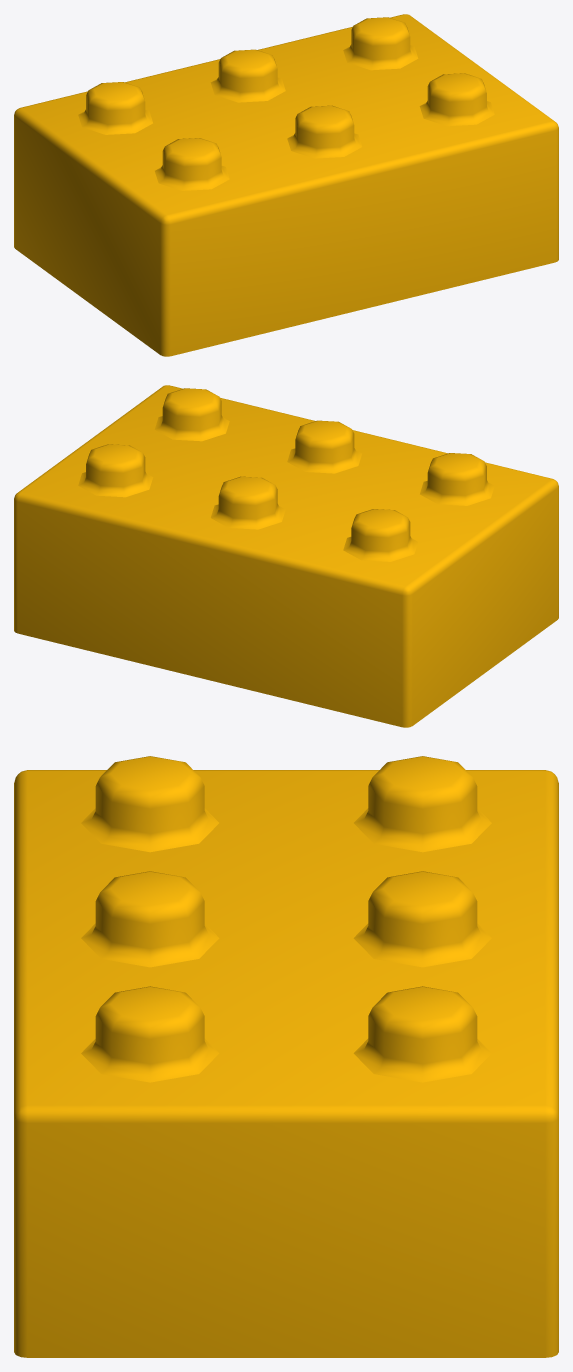
Rendered from Three_Piece_Half.fbx.
3 renders of one model, top to bottom at view 1: azimuth 30°, elevation 25°; view 2: azimuth 150°, elevation 25°; view 3: azimuth 270°, elevation 25°, orthographic. The views are drawn at different scales.
Visible parts, largest first — view 1: Three_Piece_Half, Knobs.023; view 2: Three_Piece_Half, Knobs.023; view 3: Three_Piece_Half, Knobs.023.
Boxes of the visible parts, x1=… form: Three_Piece_Half: x1=14, y1=14, x2=558, y2=356; Knobs.023: x1=78, y1=17, x2=494, y2=190; Three_Piece_Half: x1=14, y1=385, x2=558, y2=727; Knobs.023: x1=78, y1=388, x2=494, y2=561; Three_Piece_Half: x1=14, y1=770, x2=558, y2=1357; Knobs.023: x1=81, y1=756, x2=491, y2=1082.
Bounding box in the file's own units: 1.5 × 0.6 × 1.
